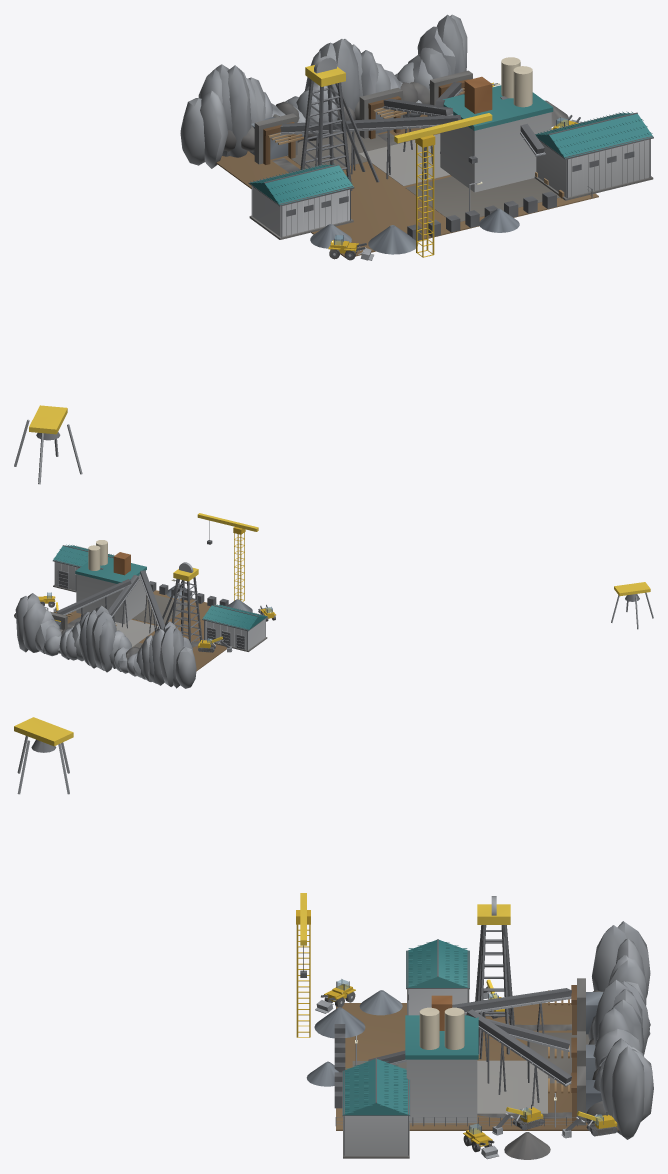
Rendered from Mine_P3.fbx.
The picture shows the model from 3 angles, top to bottom: view 1: azimuth 30°, elevation 25°; view 2: azimuth 150°, elevation 25°; view 3: azimuth 270°, elevation 25°; orthographic projection. The views are drawn at different scales.
Parts seen in each view (by area): view 1: Mine.Cliff, Mine.Apron, Mine.Plant, Mine.Crusher, Mine.Winder, Mine.Headframe, Mine.Crane, Mine.Conv0, Mine.Adit0, Mine.Clutter, Mine.LoadGantry, Mine.Adit1 (+5 smaller); view 2: Mine.Cliff, Mine.Plant, Mine.Apron, Mine.Winder, Mine.Headframe, Mine.Crusher, Mine.Crane, Mine.LoadGantry, Mine.Conv2, Mine.Conv0, Mine.Conv1, Mine.Clutter (+1 smaller); view 3: Mine.Apron, Mine.Cliff, Mine.Plant, Mine.Crusher, Mine.Winder, Mine.Headframe, Mine.Conv2, Mine.LoadGantry, Mine.Conv0, Mine.Crane, Mine.Adit0, Mine.Adit2 (+10 smaller).
Boxes of the visible parts, x1,y1,x2,y2 form: Mine.Cliff: [180, 14, 467, 168]; Mine.Apron: [216, 114, 598, 257]; Mine.Plant: [440, 57, 553, 192]; Mine.Crusher: [534, 111, 653, 200]; Mine.Winder: [248, 163, 354, 239]; Mine.Headframe: [300, 56, 379, 190]; Mine.Crane: [394, 113, 492, 257]; Mine.Conv0: [280, 115, 461, 183]; Mine.Adit0: [250, 113, 303, 164]; Mine.Clutter: [407, 172, 564, 240]; Mine.LoadGantry: [14, 405, 82, 484]; Mine.Adit1: [359, 87, 410, 139]; Mine.Cliff: [15, 593, 196, 688]; Mine.Plant: [75, 540, 146, 623]; Mine.Apron: [67, 590, 226, 671]; Mine.Winder: [202, 604, 267, 651]; Mine.Headframe: [156, 562, 202, 644]; Mine.Crusher: [52, 544, 114, 592]; Mine.Crane: [197, 513, 258, 601]; Mine.LoadGantry: [611, 582, 653, 629]; Mine.Conv2: [57, 579, 131, 618]; Mine.Conv0: [139, 570, 164, 633]; Mine.Conv1: [108, 575, 139, 628]; Mine.Clutter: [149, 581, 228, 606]; Mine.Apron: [336, 1003, 618, 1130]; Mine.Cliff: [586, 921, 653, 1139]; Mine.Plant: [405, 995, 478, 1123]; Mine.Crusher: [342, 1058, 410, 1158]; Mine.Winder: [406, 939, 469, 1015]; Mine.Headframe: [475, 896, 514, 1054]; Mine.Conv2: [466, 1009, 571, 1105]; Mine.LoadGantry: [14, 717, 73, 794]; Mine.Conv0: [452, 988, 571, 1061]; Mine.Crane: [296, 893, 310, 1037]; Mine.Adit0: [548, 978, 603, 1034]; Mine.Adit2: [548, 1066, 602, 1125].
Size of the model in its own units: 22161 by 3918 by 15377.
